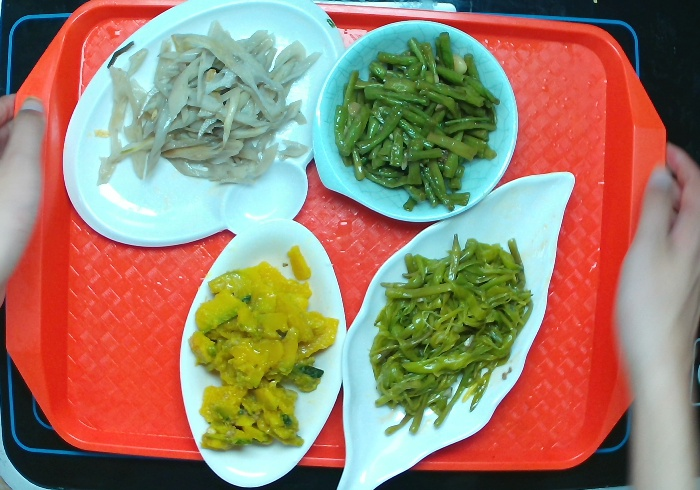RJxy-Bai_Se_Tuo_Yuan: (176, 216, 349, 487)
RJxy-Shu_Ye_Pan: (333, 171, 579, 490)
RJxy-Xiao_Jiao_Yuan_Wan: (310, 20, 516, 224)
RJxy-Zhan_Liao_Pan: (63, 1, 341, 254)
